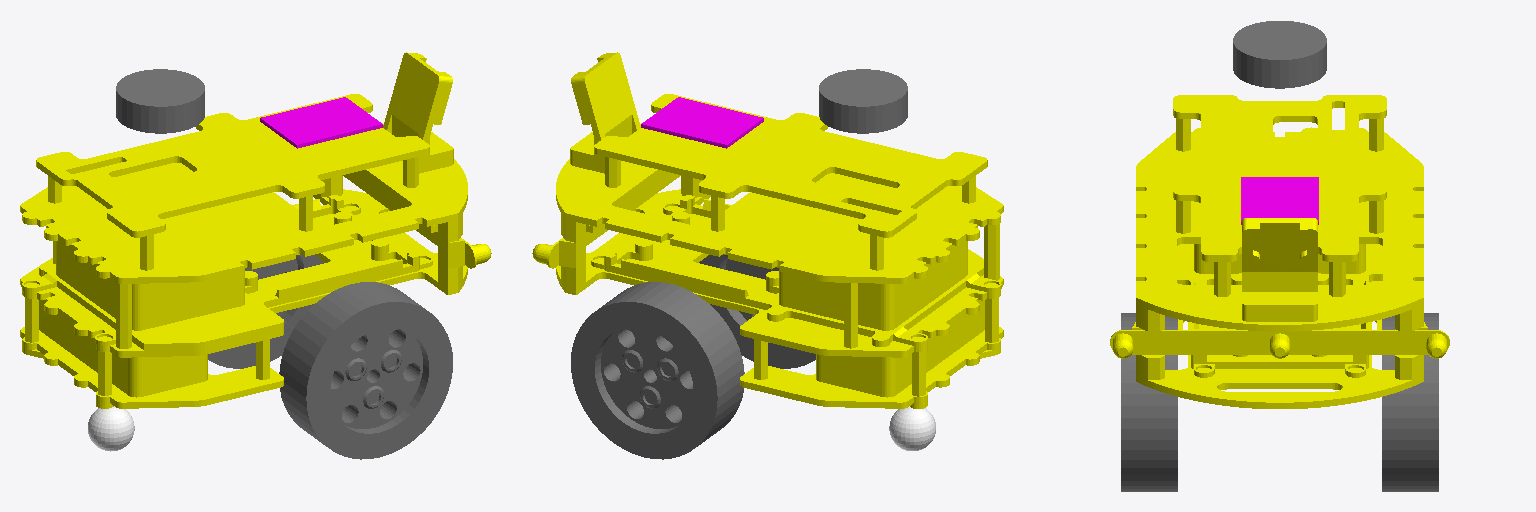
URDF robot description (sorcerer):
<?xml version="1.0" ?>
<robot name="sorcerer" xmlns:xacro="http://ros.org/wiki/xacro">

  <material name="blue">
    <color rgba="0.0 0.0 0.8 1.0"/>
  </material>
  <material name="grey">
    <color rgba="0.5 0.5 0.5 1.0"/>
  </material>
  <material name="red">
    <color rgba="0.8 0.0 0.0 1.0"/>
  </material>
  <material name="purple">
    <color rgba="1.0 0.02 1.0 1.0"/>
  </material>
  <material name="yellow">
    <color rgba="1.0 1.0 0.0 1.0"/>
  </material>
  <material name="white">
    <color rgba="1.0 1.0 1.0 1.0"/>
  </material>

  <link name="base_footprint"/>

  <joint name="base_joint" type="fixed">
    <parent link="base_footprint"/>
    <child link="base_link"/>
    <origin xyz="0.0 0.0 0.03425" rpy="0 0 0"/>
  </joint>
  <link name="base_link">
    <visual>
      <origin xyz="0 0 0.0136" rpy="0 0 0"/>
      <geometry>
        <mesh filename="package://rosrider_gazebo/models/common/meshes/sorcerer.stl" scale="0.001 0.001 0.001"/>
      </geometry>
      <material name="yellow"/>
    </visual>
    <collision>
      <origin xyz="0 0 0.0136" rpy="0 0 0"/>
      <geometry>
        <mesh filename="package://rosrider_gazebo/models/common/meshes/sorcerer.stl" scale="0.001 0.001 0.001"/>
      </geometry>
    </collision>
    <inertial>
      <origin xyz="0 0 0" rpy="0 0 0"/>
      <mass value="1.6"/>
      <inertia ixx="0.001750145" ixy="-0.000011602" ixz="-0.000583146" iyy="0.003835447" iyz="0.000002724" izz="0.004149368" />
    </inertial>
  </link>

  <joint name="wheel_left_joint" type="continuous">
    <parent link="base_link"/>
    <child link="wheel_left_link"/>
    <origin xyz="0.0 0.05 0.0" rpy="-1.57 0 0"/>
    <axis xyz="0 0 1"/>
  </joint>
  <link name="wheel_left_link">
    <visual>
      <origin xyz="0 0 0" rpy="1.57 0 0"/>
      <geometry>
        <mesh filename="package://rosrider_gazebo/models/common/meshes/wheel_left.stl" scale="0.001 0.001 0.001"/>
      </geometry>
      <material name="grey"/>
    </visual>
    <collision>
      <origin xyz="0 0 0" rpy="0 0 0"/>
      <geometry>
        <cylinder length="0.022" radius="0.03425"/>
      </geometry>
    </collision>
    <inertial>
      <mass value="0.06" />
      <inertia ixx="1.8158194e-03" ixy="-9.3392e-12" ixz="1.04909e-11"  iyy="3.2922126e-03" iyz="5.75694e-11" izz="1.8158194e-03" />
    </inertial>
  </link>

  <joint name="wheel_right_joint" type="continuous">
    <parent link="base_link"/>
    <child link="wheel_right_link"/>
    <origin xyz="0.0 -0.05 0.0" rpy="-1.57 0 0"/>
    <axis xyz="0 0 1"/>
  </joint>
  <link name="wheel_right_link">
    <visual>
      <origin xyz="0 0 0" rpy="1.57 0 0"/>
      <geometry>
        <mesh filename="package://rosrider_gazebo/models/common/meshes/wheel_right.stl" scale="0.001 0.001 0.001"/>
      </geometry>
      <material name="grey"/>
    </visual>
    <collision>
      <origin xyz="0 0 0" rpy="0 0 0"/>
      <geometry>
        <cylinder length="0.022" radius="0.03425"/>
      </geometry>
    </collision>
    <inertial>
      <mass value="0.06" />
      <inertia ixx="1.8158194e-03" ixy="-9.3392e-12" ixz="1.04909e-11"  iyy="3.2922126e-03" iyz="5.75694e-11" izz="1.8158194e-03" />
    </inertial>
  </link>

  <joint name="caster_back_joint" type="fixed">
    <parent link="base_link"/>
    <child link="caster_back_link"/>
    <origin xyz="-0.09 0 -0.02475" rpy="0 0 0"/>
  </joint>
  <link name="caster_back_link">
    <visual>
      <geometry>
        <sphere radius="0.0095"/>
      </geometry>
      <material name="white"/>
    </visual>
    <collision>
      <origin xyz="0 0 0" rpy="0 0 0"/>
      <geometry>
        <sphere radius="0.0095"/>
      </geometry>
    </collision>
    <inertial>
      <origin xyz="0 0 0" />
      <mass value="0.1" />
      <inertia ixx="0.001" ixy="0.0" ixz="0.0"  iyy="0.001" iyz="0.0" izz="0.001" />
    </inertial>
  </link>

  <joint name="imu_joint" type="fixed">
    <parent link="base_link"/>
    <child link="imu_link"/>
    <origin xyz="0.008 0 0.0884" rpy="0 0 0"/>
  </joint>
  <link name="imu_link">
    <visual>
      <origin xyz="0 0 0" rpy="0 0 0"/>
      <geometry>
        <box size="0.04 0.03 0.0016"/>
      </geometry>
      <material name="purple"/>
    </visual>
  </link>

  <joint name="scan_joint" type="fixed">
    <parent link="base_link"/>
    <child link="base_scan"/>
    <origin xyz="-0.067 0 0.1154" rpy="0 0 0"/>
  </joint>
  <link name="base_scan">
    <visual>
      <origin xyz="0 0 0" rpy="0 0 0"/>
      <geometry>
        <cylinder length="0.012" radius="0.018"/>
      </geometry>
      <material name="grey"/>
    </visual>
    <collision>
      <origin xyz="0 0 0" rpy="0 0 0"/>
      <geometry>
        <cylinder length="0.012" radius="0.018"/>
      </geometry>
    </collision>
    <inertial>
      <mass value="0.2" />
      <origin xyz="0 0 0" />
      <inertia ixx="0.001" ixy="0.0" ixz="0.0"  iyy="0.001" iyz="0.0" izz="0.001" />
    </inertial>
  </link>

</robot>

--- Render facts (derived) ---
3 views of the same robot in one strip: view 1: azimuth 30°, elevation 25°; view 2: azimuth 150°, elevation 25°; view 3: azimuth 270°, elevation 25° (orthographic).
Robot: sorcerer — 7 links, 6 joints (2 continuous, 4 fixed); root link base_footprint; default pose: every joint at zero.
Visible links, largest first — view 1: base_link, wheel_right_link, base_scan, imu_link, wheel_left_link, caster_back_link; view 2: base_link, wheel_left_link, base_scan, imu_link, wheel_right_link, caster_back_link; view 3: base_link, wheel_left_link, wheel_right_link, base_scan, imu_link.
Link boxes in pixels (x1,y1,x2,y2): base_link: [20, 52, 491, 408]; wheel_right_link: [279, 282, 452, 459]; base_scan: [116, 69, 204, 133]; imu_link: [260, 97, 382, 148]; wheel_left_link: [208, 254, 324, 368]; caster_back_link: [88, 406, 134, 451]; base_link: [532, 52, 1003, 408]; wheel_left_link: [571, 282, 744, 459]; base_scan: [819, 69, 907, 133]; imu_link: [641, 97, 763, 148]; wheel_right_link: [699, 254, 815, 368]; caster_back_link: [889, 406, 935, 450]; base_link: [1110, 95, 1449, 408]; wheel_left_link: [1382, 313, 1438, 491]; wheel_right_link: [1121, 313, 1177, 491]; base_scan: [1233, 21, 1326, 88]; imu_link: [1241, 177, 1318, 224].
Size in the robot's own frame: 0.179 by 0.13 by 0.1557 metres.
3 mesh visuals loaded from 3 distinct referenced files (3 binary STL).